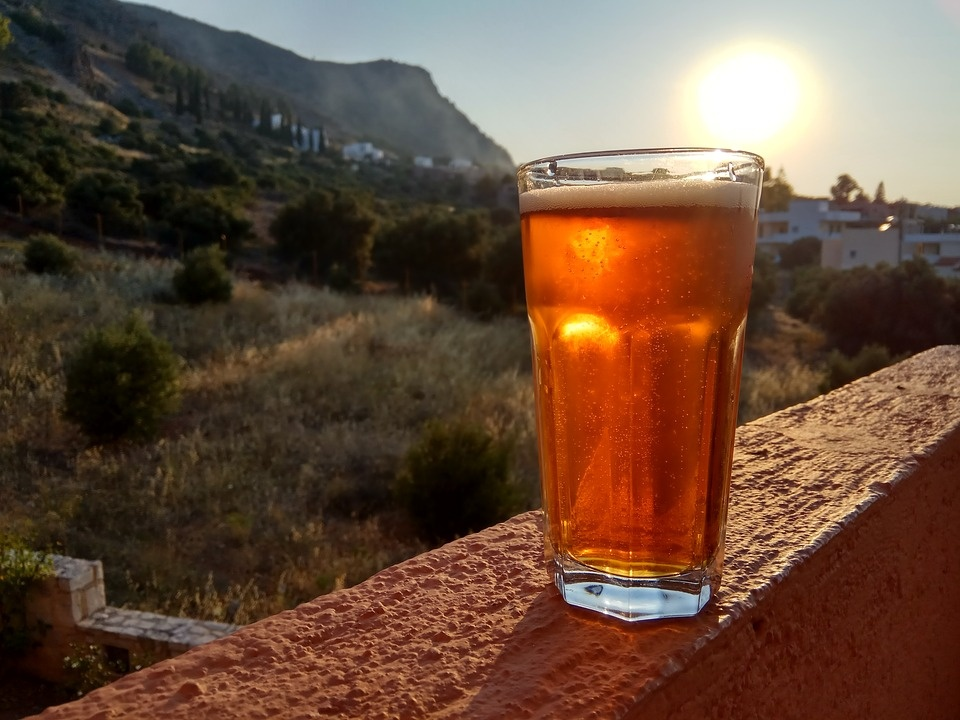glassBeer: (513, 149, 769, 618)
